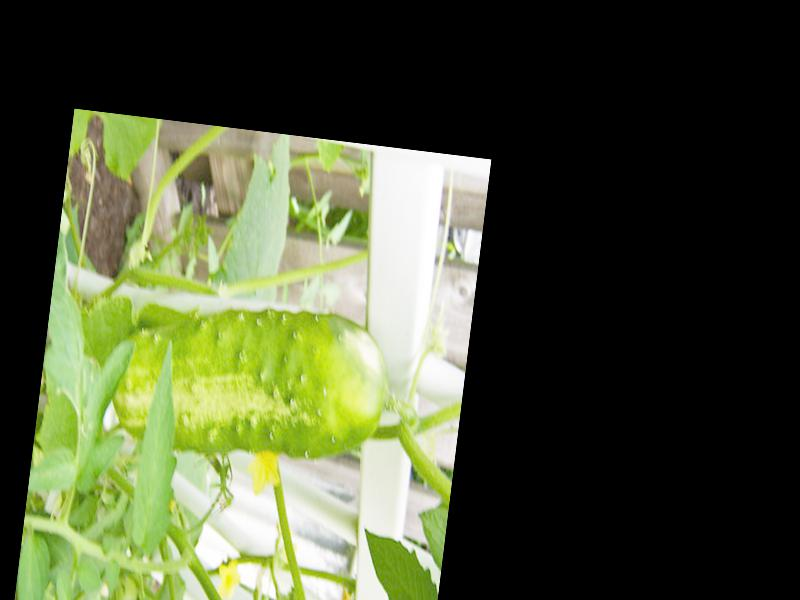Cucumber: (111, 291, 395, 468)
